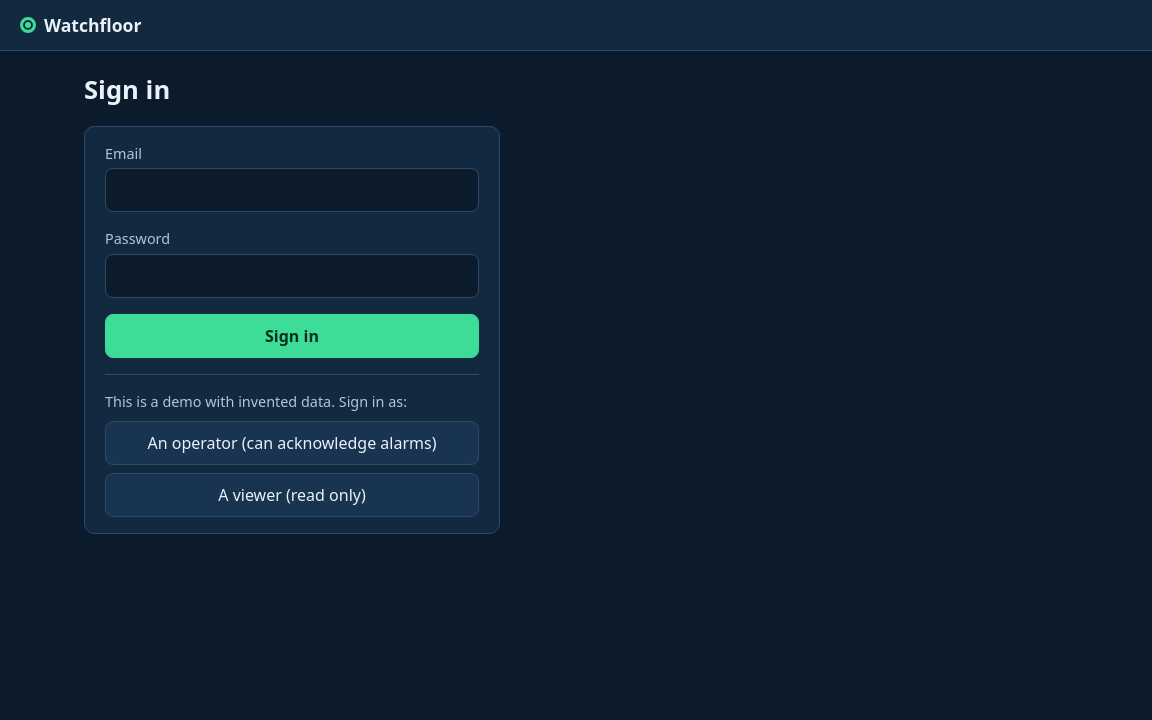
signing in › tells the person what is missing, and does not ask the server
Click the button "Sign in" at (292, 336), box [105,314,479,358]
Wait 100 ms
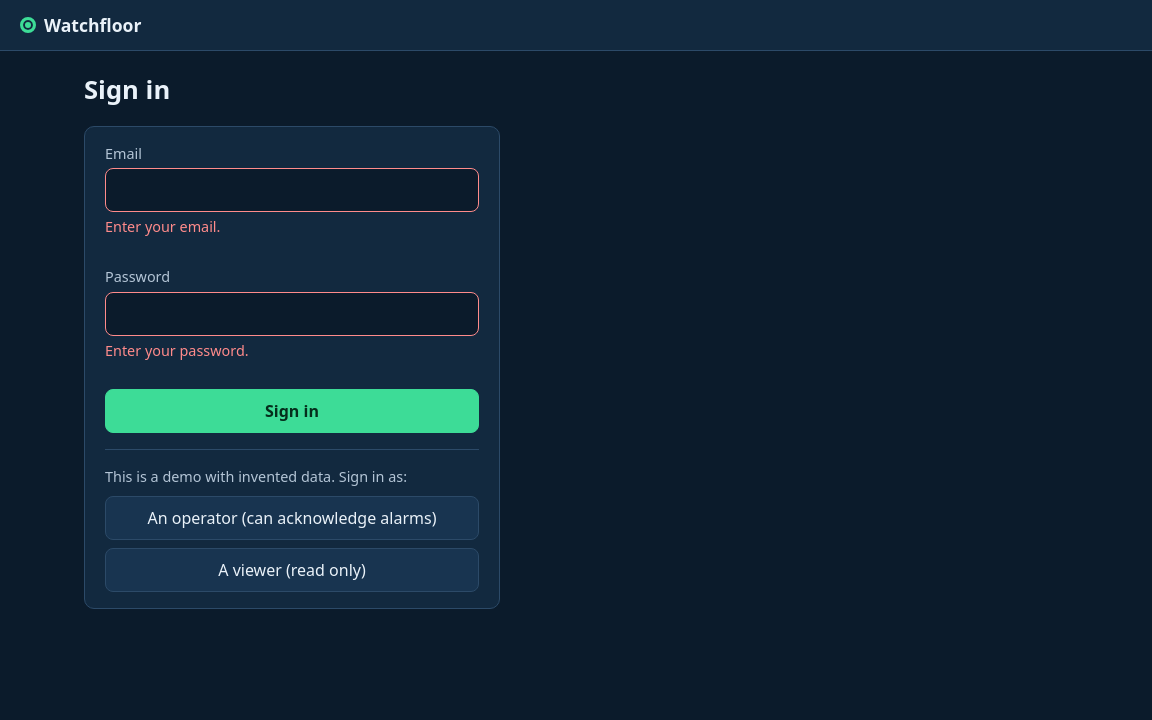
Expected: the text "Enter your email." is shown, [105,217,220,236]
Expected: the text "Enter your password." is shown, [105,341,249,360]
